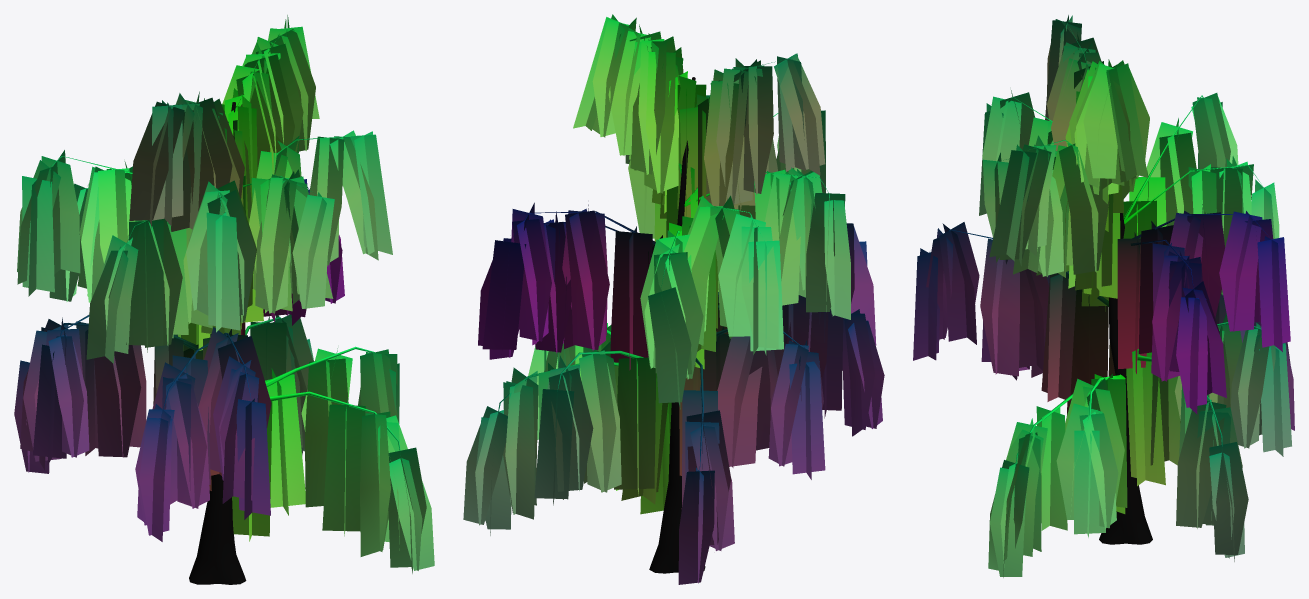
Rendered from Tree_7_4.fbx.
3 renders of one model, left to right at view 1: azimuth 30°, elevation 25°; view 2: azimuth 150°, elevation 25°; view 3: azimuth 270°, elevation 25°, orthographic. The views are drawn at different scales.
Visible parts, largest first — view 1: _4; view 2: _4; view 3: _4.
Boxes of the visible parts, <box> form: _4: <box>14,15,434,584</box>; _4: <box>463,14,884,584</box>; _4: <box>913,15,1294,577</box>.
Bounding box in the file's own units: 871 × 1384 × 948.
